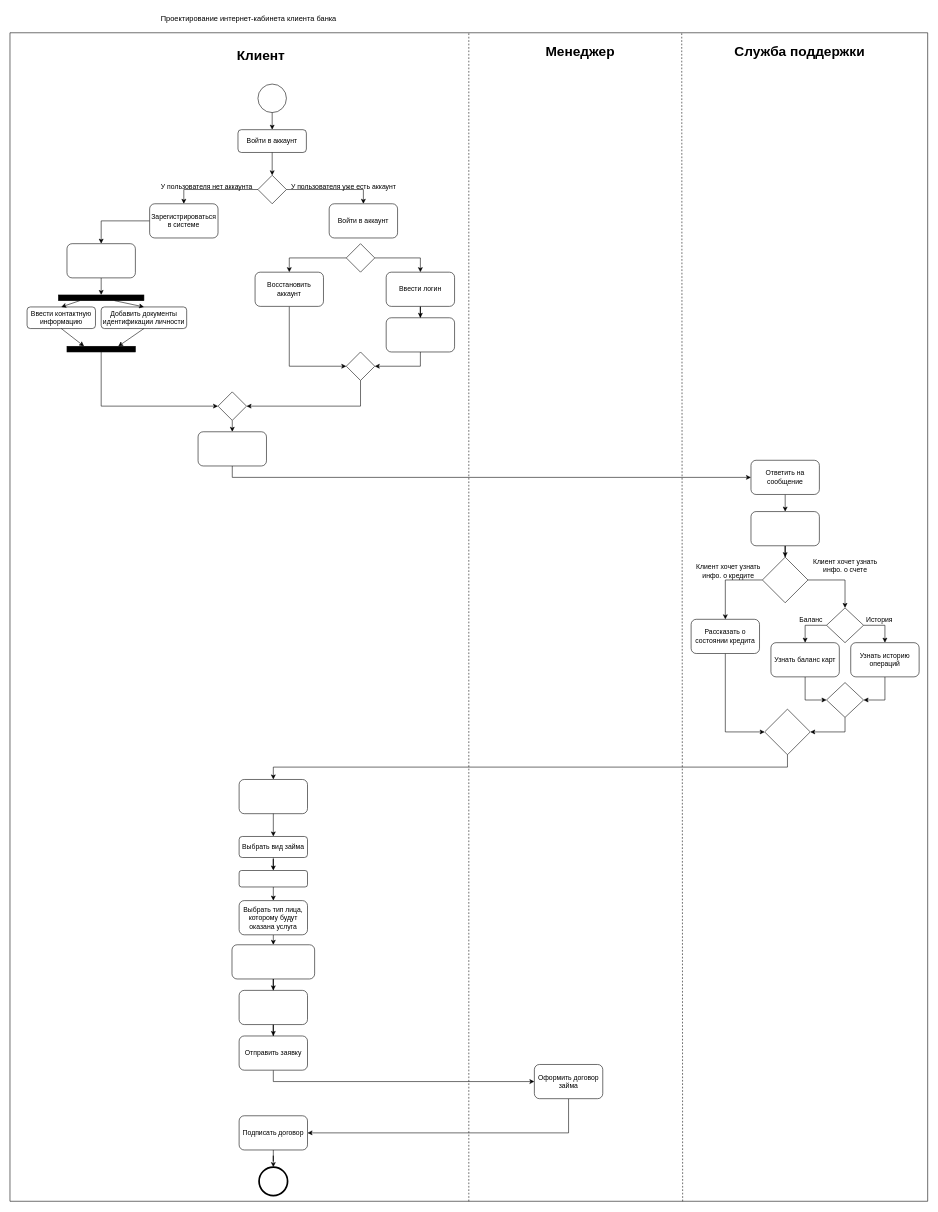
The diagram is 938 pixels wide and 1212 high, and some of its shapes have lost their labels. Here are the shapes that lost their labels. From the top down, the box of each, then its label:
(66, 243, 135, 278): Ввести личную информацию
(386, 317, 455, 352): Ввести пароль
(198, 431, 266, 466): Обратиться в поддержку
(750, 511, 819, 546): Проверить состояние счета клиента
(239, 779, 308, 814): Оформить заявку на кредитование
(239, 870, 308, 887): Выбрать сумму
(231, 944, 315, 979): Предоставить документы соответствующие выбранному виду займа
(239, 990, 308, 1025): Отправить запрос на подтверждение
